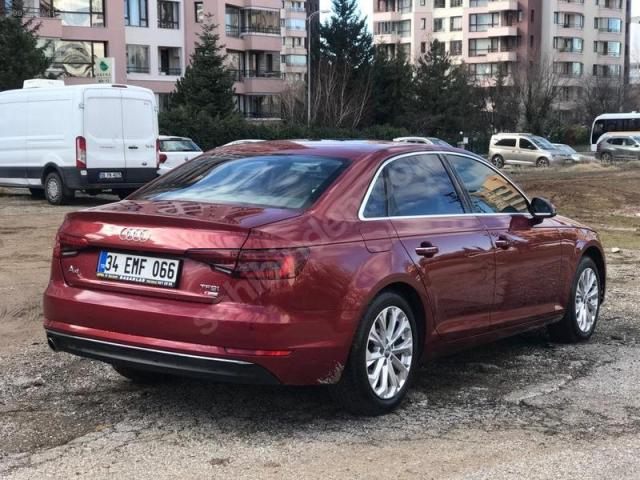plaka: (98, 251, 179, 286)
